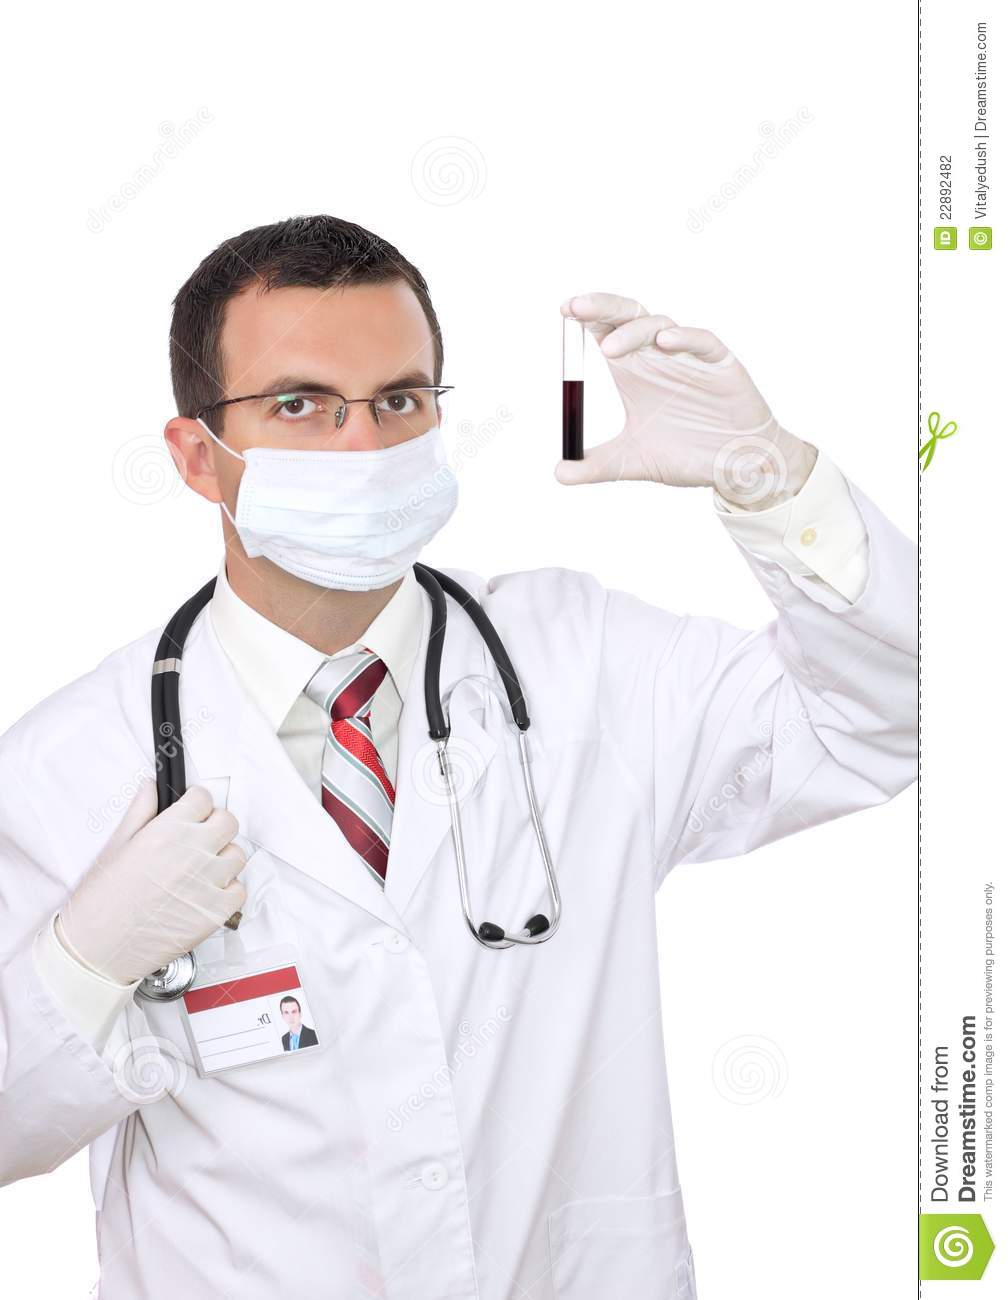mask: (220, 433, 468, 595)
